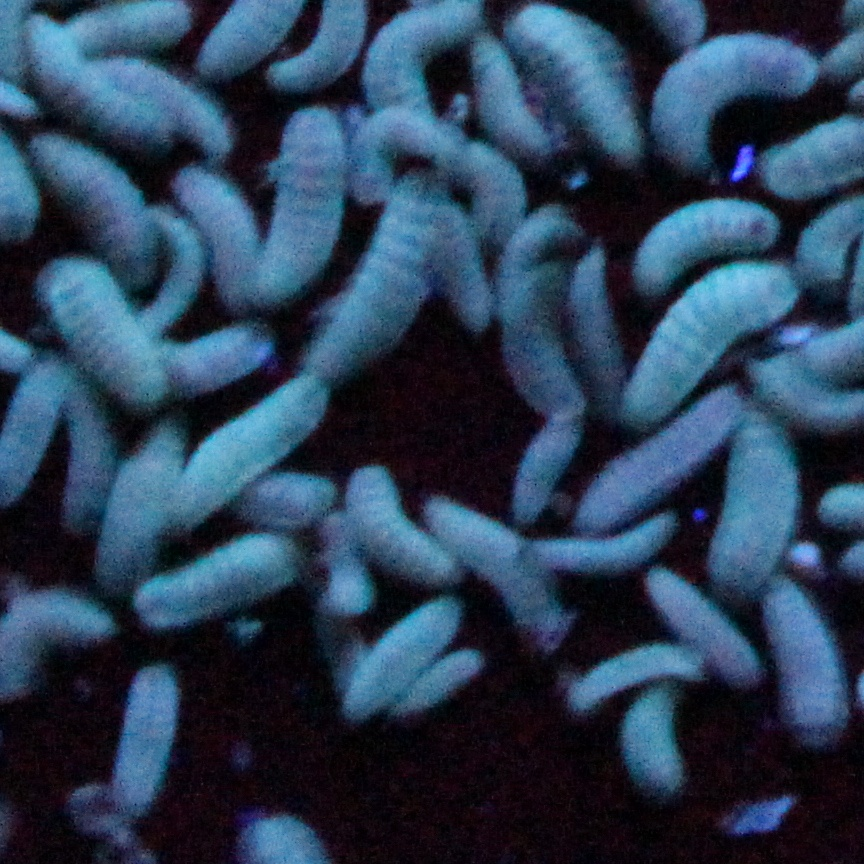larve: (316, 192, 432, 367), (639, 269, 776, 416), (570, 411, 730, 509), (665, 37, 807, 141), (535, 13, 630, 153), (200, 381, 316, 488), (267, 118, 341, 278), (35, 30, 142, 137), (713, 436, 790, 581), (446, 507, 546, 618), (51, 144, 142, 264), (767, 590, 841, 734), (155, 541, 292, 618), (355, 592, 449, 700), (116, 669, 186, 814), (351, 469, 442, 578), (509, 267, 574, 418), (639, 207, 762, 286), (69, 279, 149, 400), (665, 583, 751, 683), (111, 439, 178, 567), (128, 62, 216, 148), (479, 41, 544, 153), (362, 102, 432, 206), (192, 172, 253, 290), (574, 251, 616, 400), (176, 318, 272, 383), (439, 204, 493, 316), (583, 648, 686, 704), (628, 692, 685, 790), (74, 369, 104, 530), (506, 209, 578, 276), (406, 651, 478, 713), (469, 144, 516, 237), (525, 420, 569, 516), (316, 535, 367, 607), (541, 534, 658, 564), (249, 476, 334, 516), (163, 216, 195, 314)
